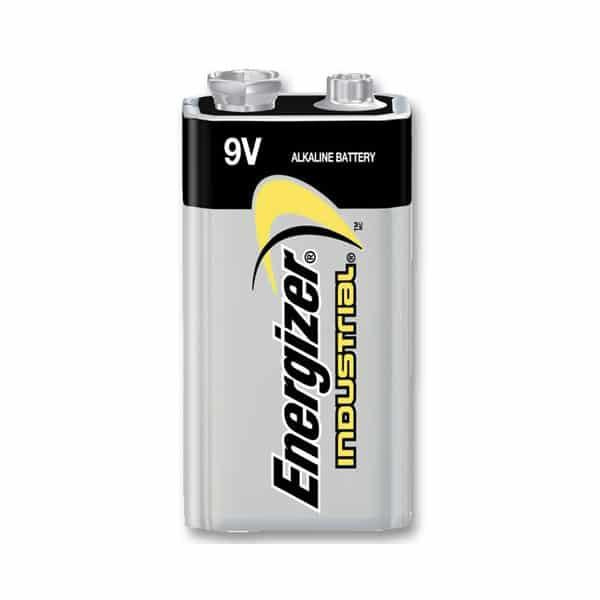9V Battery: (181, 69, 414, 538)
